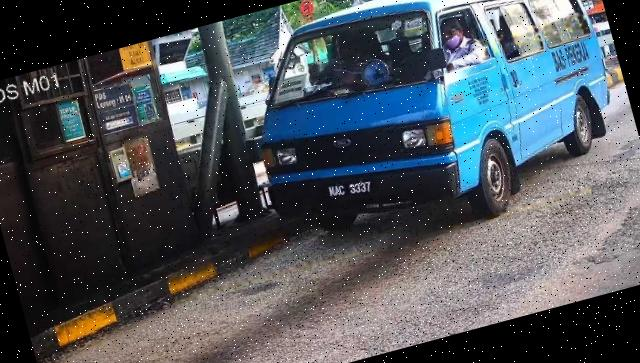License_Plate: (326, 172, 378, 208)
van: (228, 1, 636, 270)
